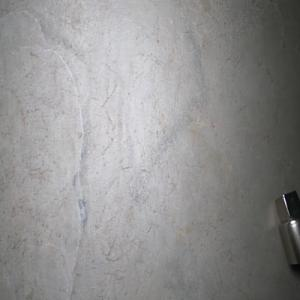MetalPart: (273, 189, 300, 266)
